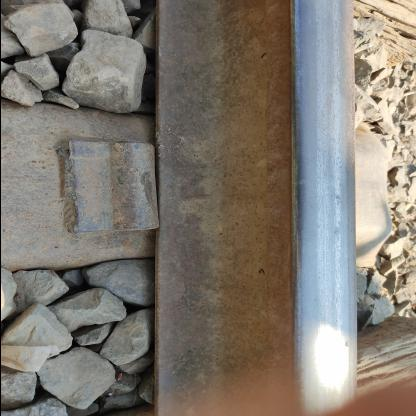Defective: (24, 84, 184, 264)
